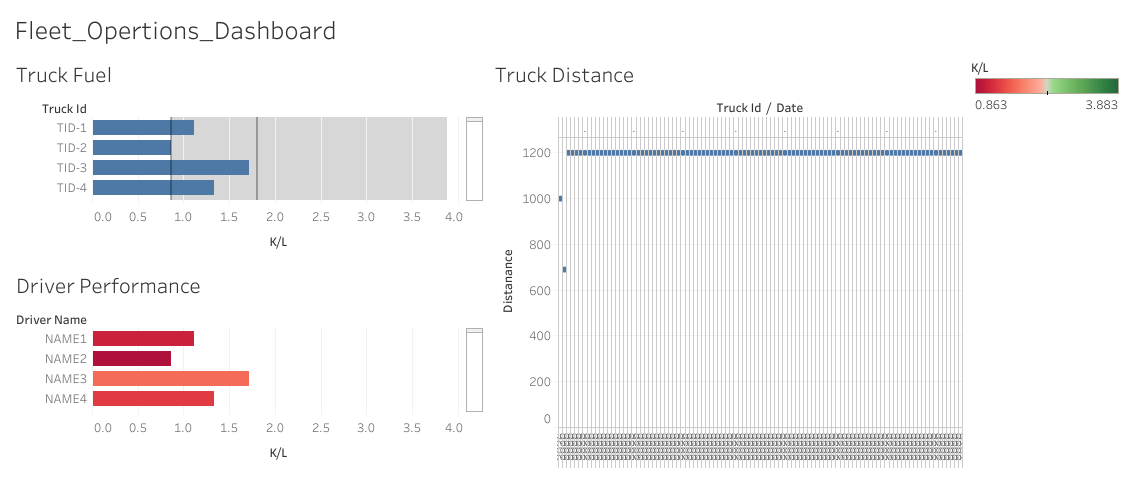

Layout of this report page (visuals, bound fields, positions):
{"tool":"tableau","page":{"name":"Fleet_Opertions_Dashboard","canvas":[1000,1000],"units":"permille","ordinal":0},"visuals":[{"type":"title","box":[7,16.7,985.9,87.5]},{"type":"worksheet","title":"Truck Fuel","mark":"Automatic","rows":["TRUCK ID"],"cols":["K/L"],"box":[7,104.2,422.5,439.6]},{"type":"worksheet","title":"Truck Distance","mark":"Automatic","rows":["DISTANANCE"],"cols":["TRUCK ID","DATE"],"box":[429.5,104.2,422.5,879.2]},{"type":"legend","title":"Driver Performance","param":"[federated.06ah0d90yhf7md18fpi4q0ii4dyu].[sum:K/L:qk]","box":[852,104.2,141,141.7]},{"type":"worksheet","title":"Driver Performance","mark":"Automatic","rows":["DRIVER NAME"],"cols":["K/L"],"box":[7,543.8,422.5,439.6]}]}

Visuals, with their boxes on the dashboard's canvas, which has no fixed pixel size, in thousandths of its width and height (x1, y1, x2, y2). These are canvas units, not pixel positions in the 1134x479 screenshot, which may show the page scaled, cropped or inside an application window:
title: (7,17,993,104)
"Truck Fuel" worksheet: (7,104,430,544)
"Truck Distance" worksheet: (430,104,852,983)
"Driver Performance" legend: (852,104,993,246)
"Driver Performance" worksheet: (7,544,430,983)
